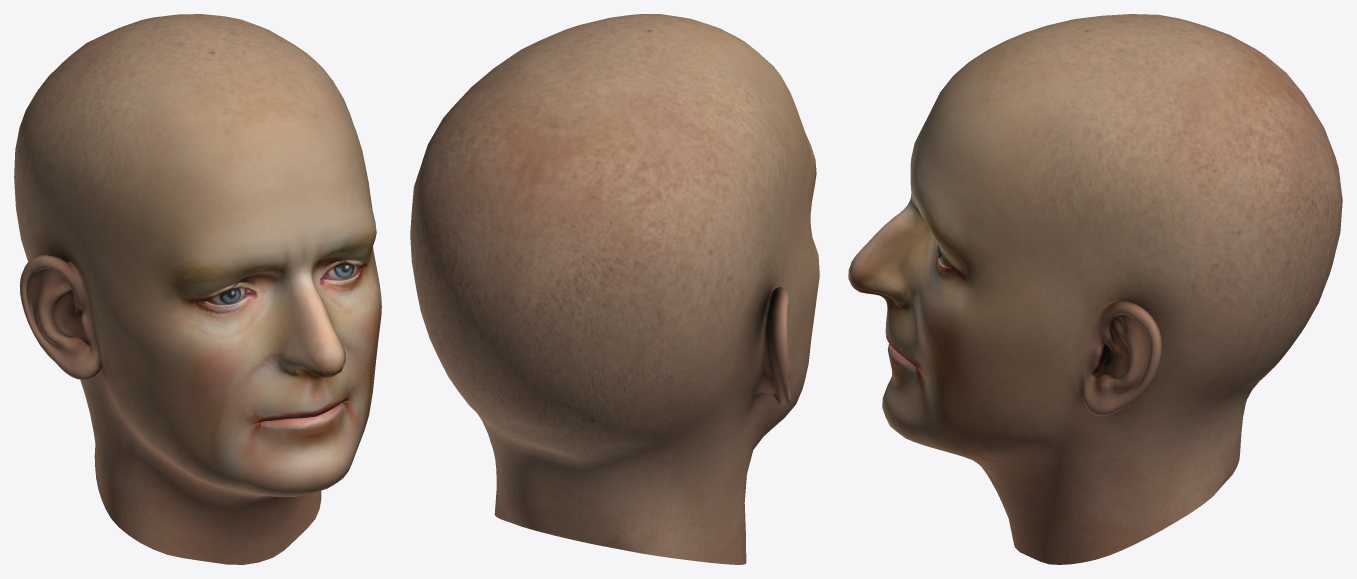
The model's file is Old Man Palpatine Toonish model head.fbx.
3 views of the same model, side by side, from view 1: azimuth 30°, elevation 25°; view 2: azimuth 150°, elevation 25°; view 3: azimuth 270°, elevation 25° (orthographic). The views are drawn at different scales.
Visible parts, largest first — view 1: Head; view 2: Head; view 3: Head.
Boxes of the visible parts, <box> form: Head: <box>14,14,381,564</box>; Head: <box>410,14,819,564</box>; Head: <box>848,14,1342,564</box>.
Size of the model in its own units: 0.191 by 0.2675 by 0.2361.
